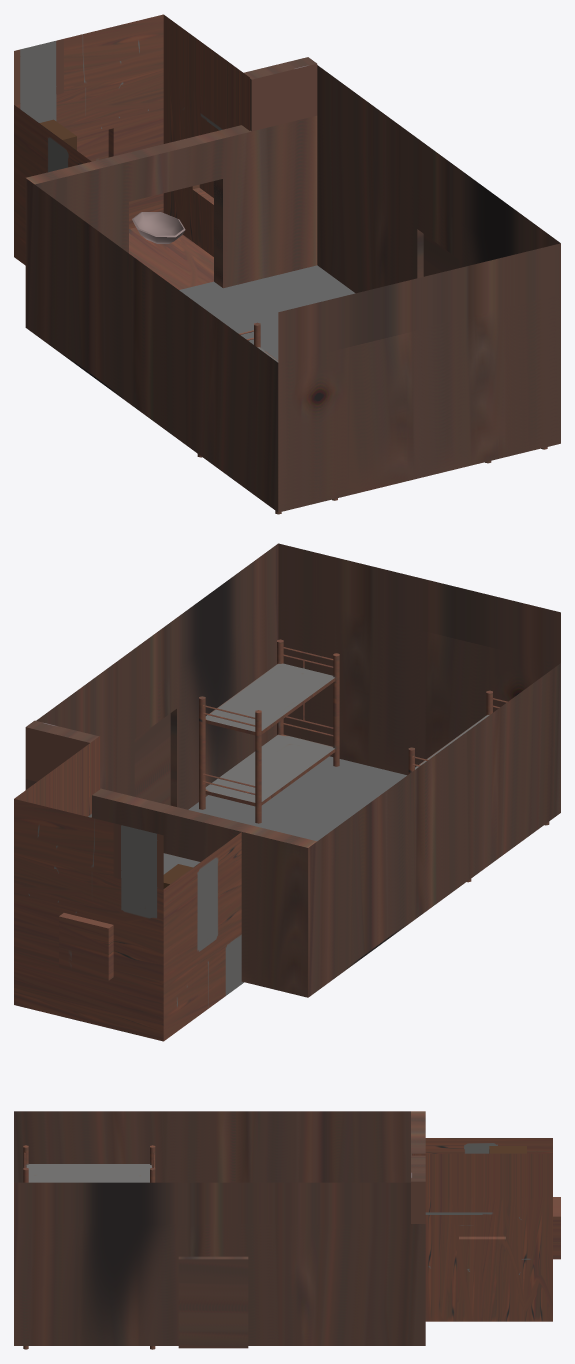
File: ServantsQuartersInterior.glb
The picture shows the model from 3 angles, top to bottom: view 1: azimuth 30°, elevation 25°; view 2: azimuth 150°, elevation 25°; view 3: azimuth 270°, elevation 25°; orthographic projection. The views are drawn at different scales.
Parts seen in each view (by area): view 1: InsideRoom1, InsideRoom2, Cylinder.018; view 2: InsideRoom1, InsideRoom2, Litera.002, Litera.001; view 3: InsideRoom1, InsideRoom2, Litera.001.
Boxes of the visible parts, box(x1,y1,x2,y2) form: InsideRoom1: box(25, 57, 560, 512); InsideRoom2: box(14, 14, 249, 289); Cylinder.018: box(132, 212, 185, 243); InsideRoom1: box(25, 543, 560, 997); InsideRoom2: box(14, 736, 243, 1041); Litera.002: box(199, 639, 339, 823); Litera.001: box(408, 690, 549, 882); InsideRoom1: box(14, 1111, 425, 1348); InsideRoom2: box(412, 1138, 560, 1321); Litera.001: box(23, 1145, 155, 1182).
Bounding box in the file's own units: 20.19 × 14.07 × 40.62.
Materials: 15 (11 with a texture image).
